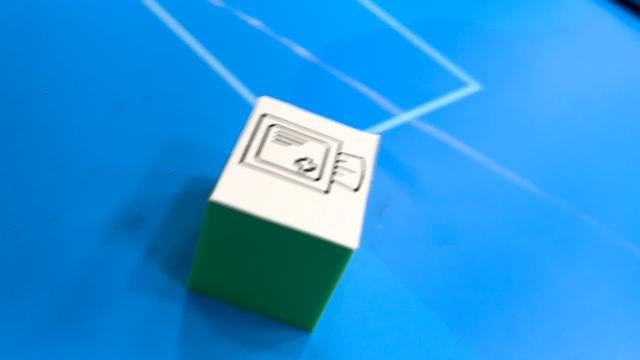napkin: (190, 94, 384, 334)
